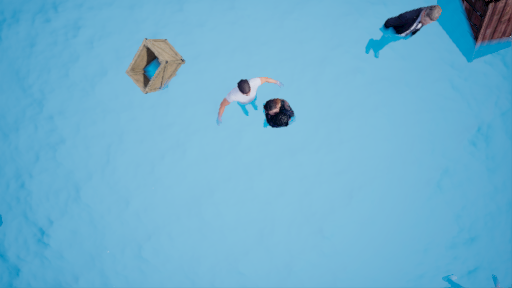person: (221, 71, 302, 134), (372, 6, 436, 63)
